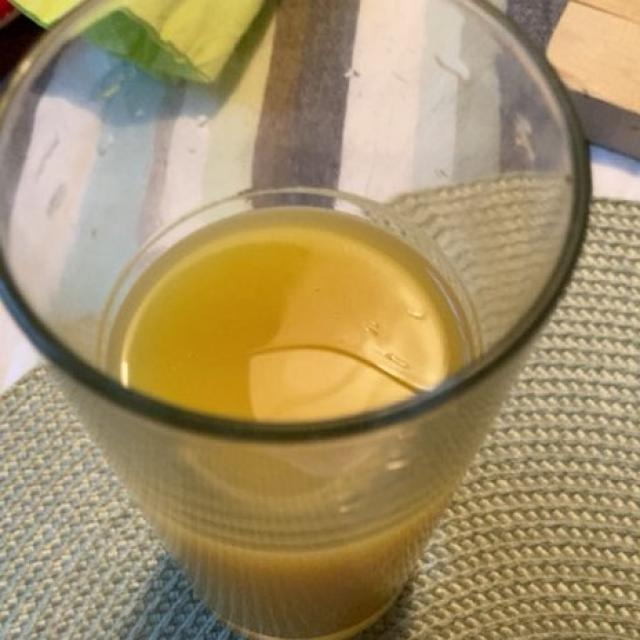juice-orange: (110, 216, 471, 638)
